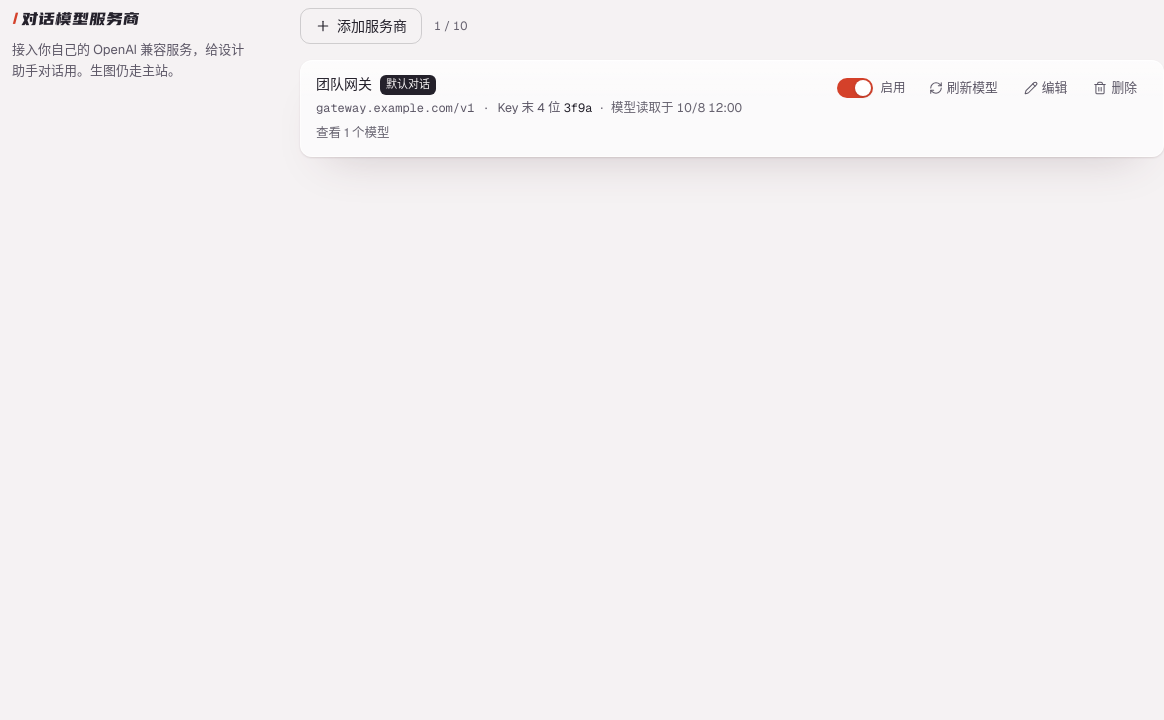
it: ChatProvidersSection › asks for a new default after turning off the provider the default model belongs to
Click the switch named "启用「团队网关」": (855, 88) top-left (837, 78), bottom-right (873, 98)
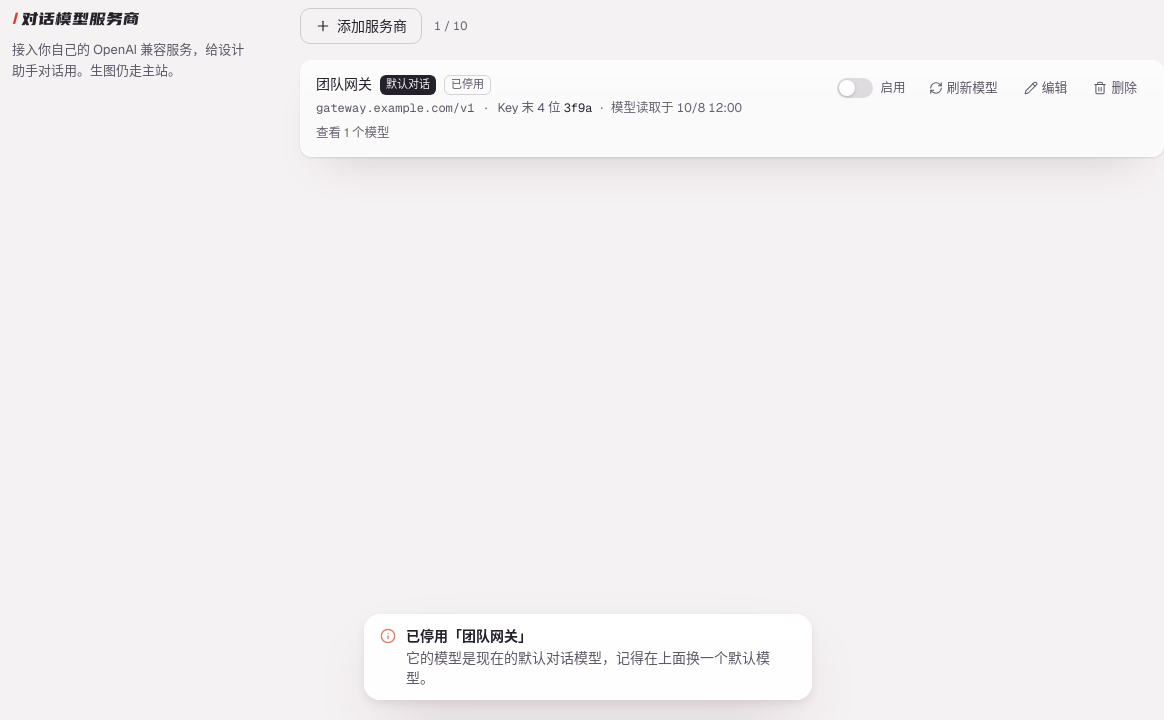
Result: the text "它的模型是现在的默认对话模型，记得在上面换一个默认模型。" is shown at top-left (406, 648), bottom-right (796, 688)
Result: the text "已停用" is shown at top-left (444, 74), bottom-right (491, 94)
